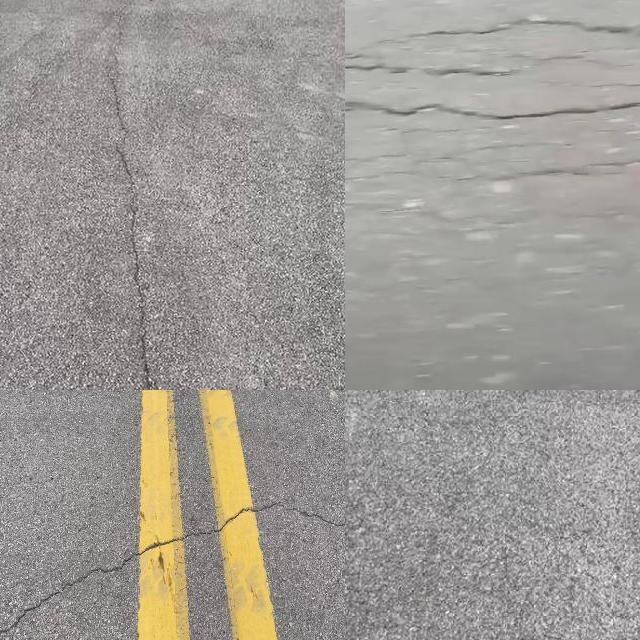Melintang: (0, 491, 345, 640), (345, 90, 640, 132), (408, 11, 640, 43)
Memanjang: (95, 0, 170, 390)
